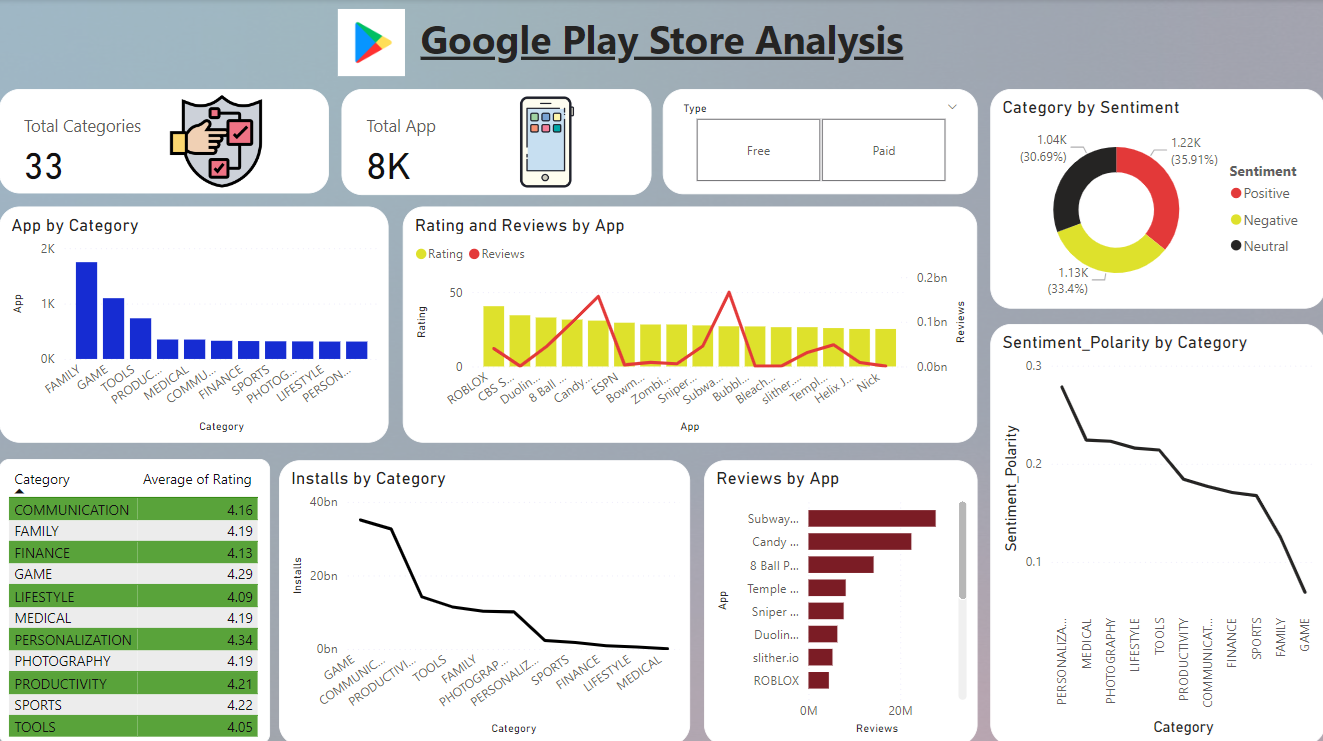

This screenshot's page, from the dashboard's own definition file:
{"tool":"powerbi","page":{"name":"Page 1","canvas":[1280,720],"ordinal":0},"visuals":[{"type":"textbox","box":[0,8.4,1279.6,67.5],"z":0},{"type":"cardVisual","fields":{"Data":["googleplaystore.Total Categories"]},"box":[0,87.2,318.7,100.7],"z":1000},{"type":"cardVisual","fields":{"Data":["googleplaystore.Total App"]},"box":[330.5,86.8,299.1,102.5],"z":2000},{"type":"clusteredColumnChart","fields":{"Y":["CountNonNull(googleplaystore.App)"],"Category":["googleplaystore.Category"]},"box":[0,200.2,376.3,227.9],"z":3000},{"type":"lineStackedColumnComboChart","fields":{"Category":["googleplaystore.App"],"Y":["Sum(googleplaystore.Rating)"],"Y2":["Sum(googleplaystore.Reviews)"]},"box":[389.8,199.8,554.2,228.2],"z":4000},{"type":"clusteredBarChart","fields":{"Category":["googleplaystore.App"],"Y":["Max(googleplaystore.Reviews)"]},"box":[680.3,445,263.6,275],"z":5000},{"type":"tableEx","fields":{"Values":["googleplaystore.Category","Avg(googleplaystore.Rating)"]},"box":[0,444.6,261.7,275.1],"z":6000},{"type":"lineChart","fields":{"Category":["googleplaystore.Category"],"Y":["Sum(googleplaystore.Installs)"]},"box":[270.7,445,396.9,275],"z":7000},{"type":"lineChart","fields":{"Category":["googleplaystore.Category"],"Y":["Avg(googleplaystore_user_reviews.Sentiment_Polarity)"]},"box":[956.7,313.2,323.1,406.8],"z":8000},{"type":"donutChart","fields":{"Category":["googleplaystore_user_reviews.Sentiment"],"Y":["CountNonNull(googleplaystore.Category)"]},"box":[956.4,86.8,323.2,212.3],"z":9000},{"type":"slicer","fields":{"Values":["googleplaystore.Type"]},"box":[640.4,86.8,303.9,101.3],"z":10000},{"type":"image","box":[480,86.8,97.7,102.5],"z":11000},{"type":"image","box":[270.2,4.8,178.5,74.8],"z":12000},{"type":"image","box":[159.2,86.8,101.3,100.1],"z":13000}]}

Visuals, with their boxes in screenshot pixels (x1, y1, x2, y2), scaled from the page's 1280x720 canvas onto the 1323x741 screenshot:
textbox: 0, 9, 1322, 78
cardVisual - googleplaystore.Total Categories: 0, 90, 329, 193
cardVisual - googleplaystore.Total App: 342, 89, 651, 195
clusteredColumnChart - CountNonNull(googleplaystore.App) x googleplaystore.Category: 0, 206, 389, 441
lineStackedColumnComboChart - googleplaystore.App x Sum(googleplaystore.Rating): 403, 206, 976, 440
clusteredBarChart - googleplaystore.App x Max(googleplaystore.Reviews): 703, 458, 976, 740
tableEx - googleplaystore.Category x Avg(googleplaystore.Rating): 0, 458, 270, 740
lineChart - googleplaystore.Category x Sum(googleplaystore.Installs): 280, 458, 690, 740
lineChart - googleplaystore.Category x Avg(googleplaystore_user_reviews.Sentiment_Polarity): 989, 322, 1322, 740
donutChart - googleplaystore_user_reviews.Sentiment x CountNonNull(googleplaystore.Category): 989, 89, 1322, 308
slicer - googleplaystore.Type: 662, 89, 976, 194
image: 496, 89, 597, 195
image: 279, 5, 464, 82
image: 165, 89, 269, 192
